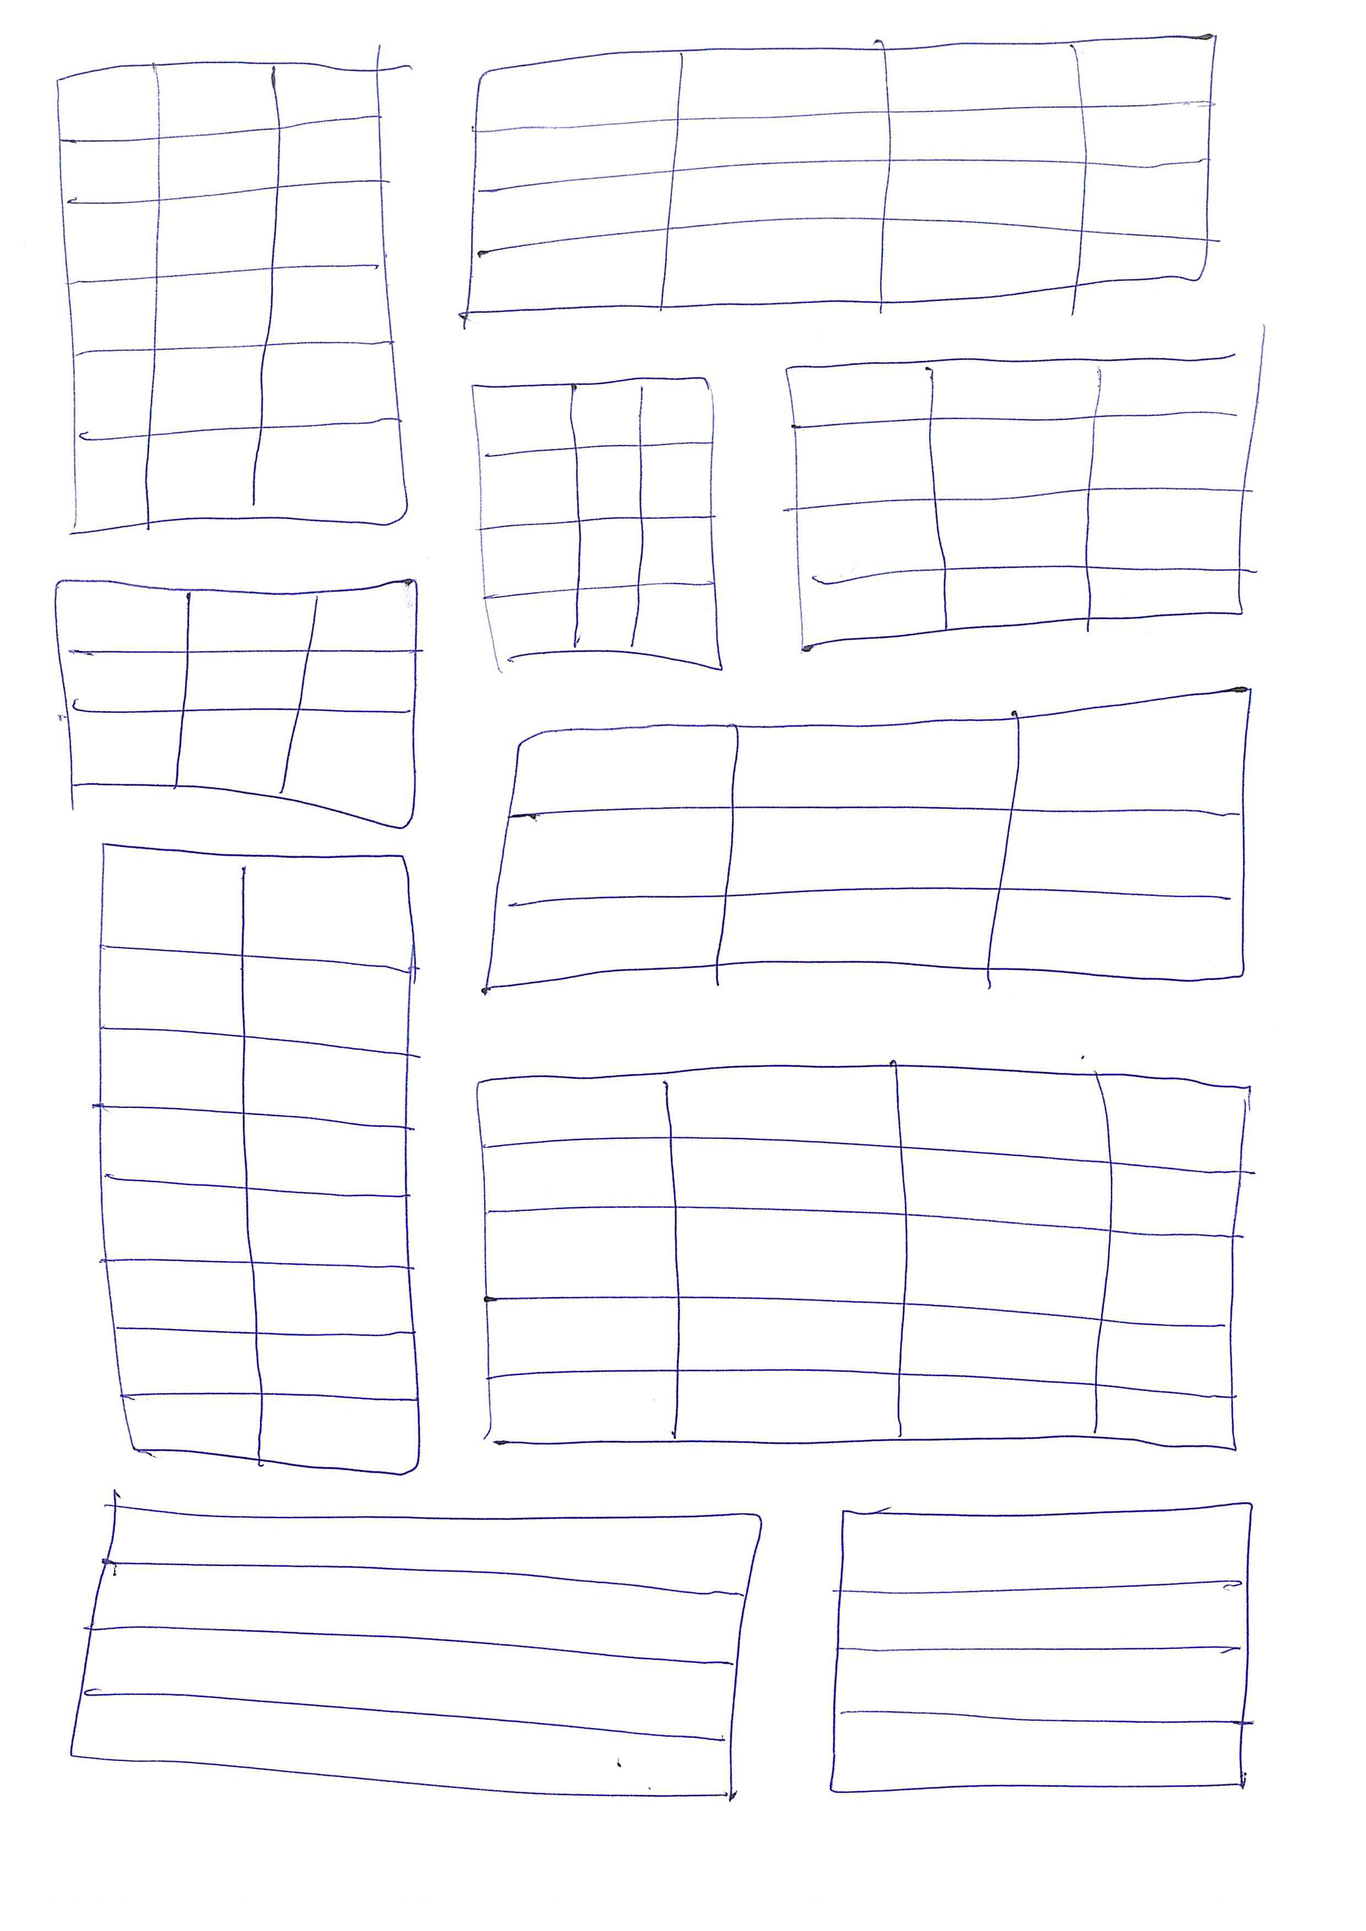Table: (472, 1056, 1254, 1456), (475, 682, 1260, 1000), (59, 1496, 767, 1813), (463, 30, 1224, 319), (92, 841, 415, 1479), (50, 53, 410, 541), (781, 347, 1265, 656), (820, 1493, 1260, 1802), (47, 574, 427, 832), (466, 373, 730, 679)
